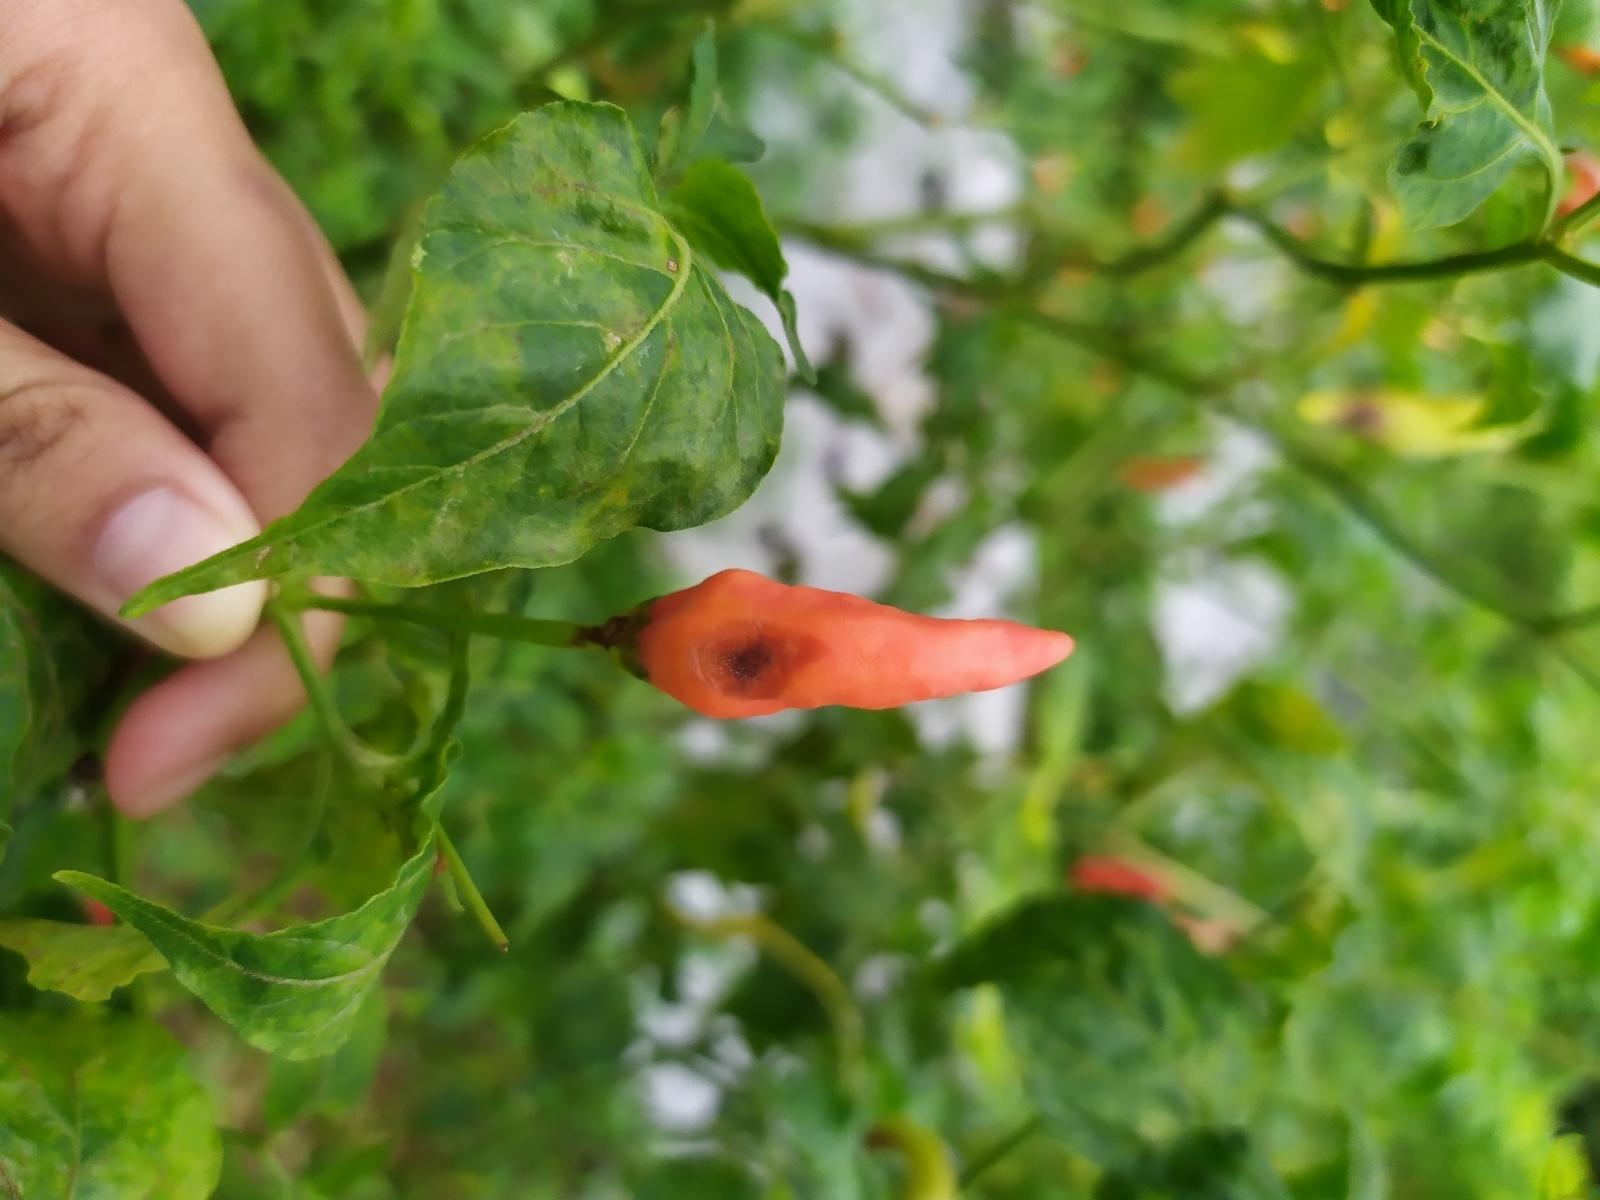antraknosa: (619, 567, 1075, 721)
